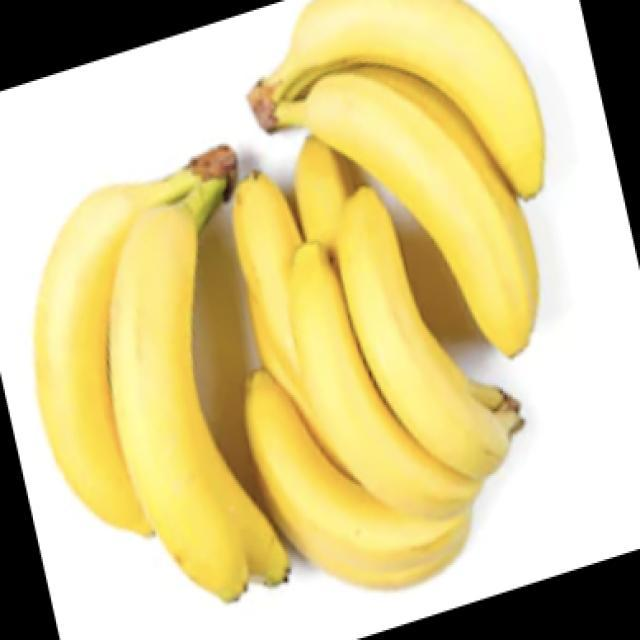banana: (34, 0, 550, 589)
